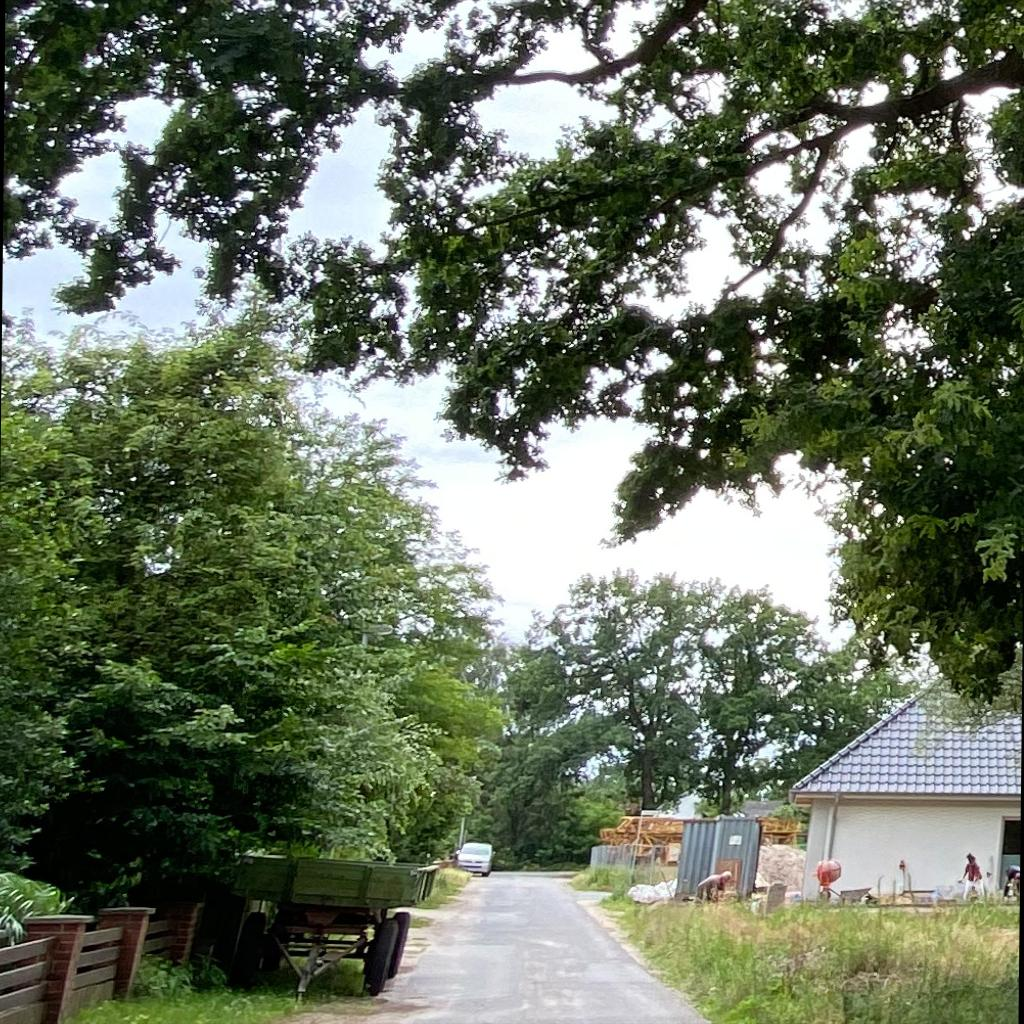tree: (1, 1, 1023, 716), (521, 566, 776, 811), (671, 592, 833, 814), (767, 638, 923, 784)
